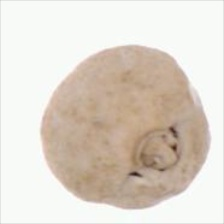L3: (127, 122, 182, 178)
L4: (39, 44, 211, 210)
